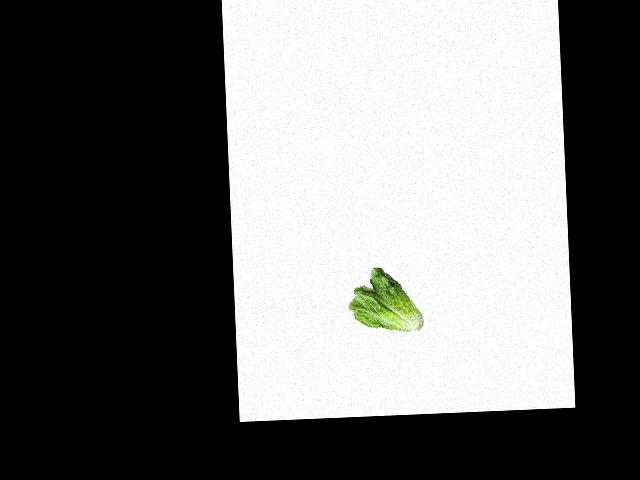lettuce: (345, 263, 423, 336)
